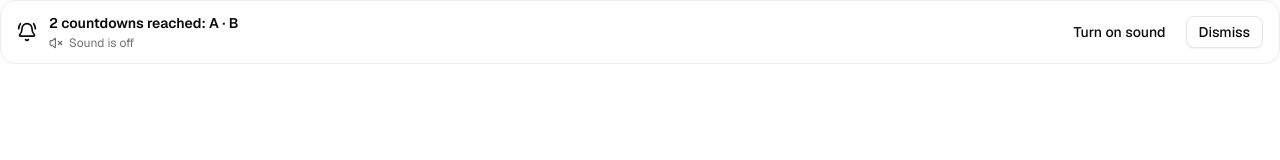
Test: CountdownAlarm › only tells other tabs when at least one dismiss worked
Click the button "Dismiss" at x=1224, y=32, box [1186,16,1263,48]
Wait 1 ms
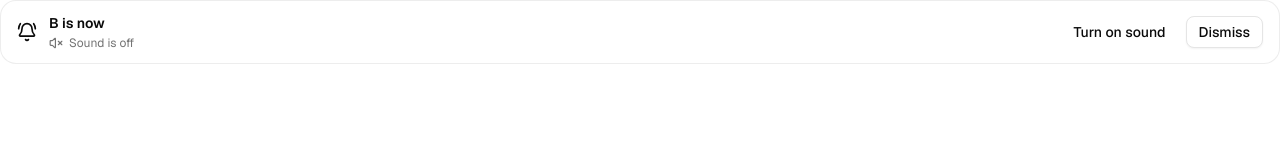
Now the message shows "B is now", box [49,14,105,32]
